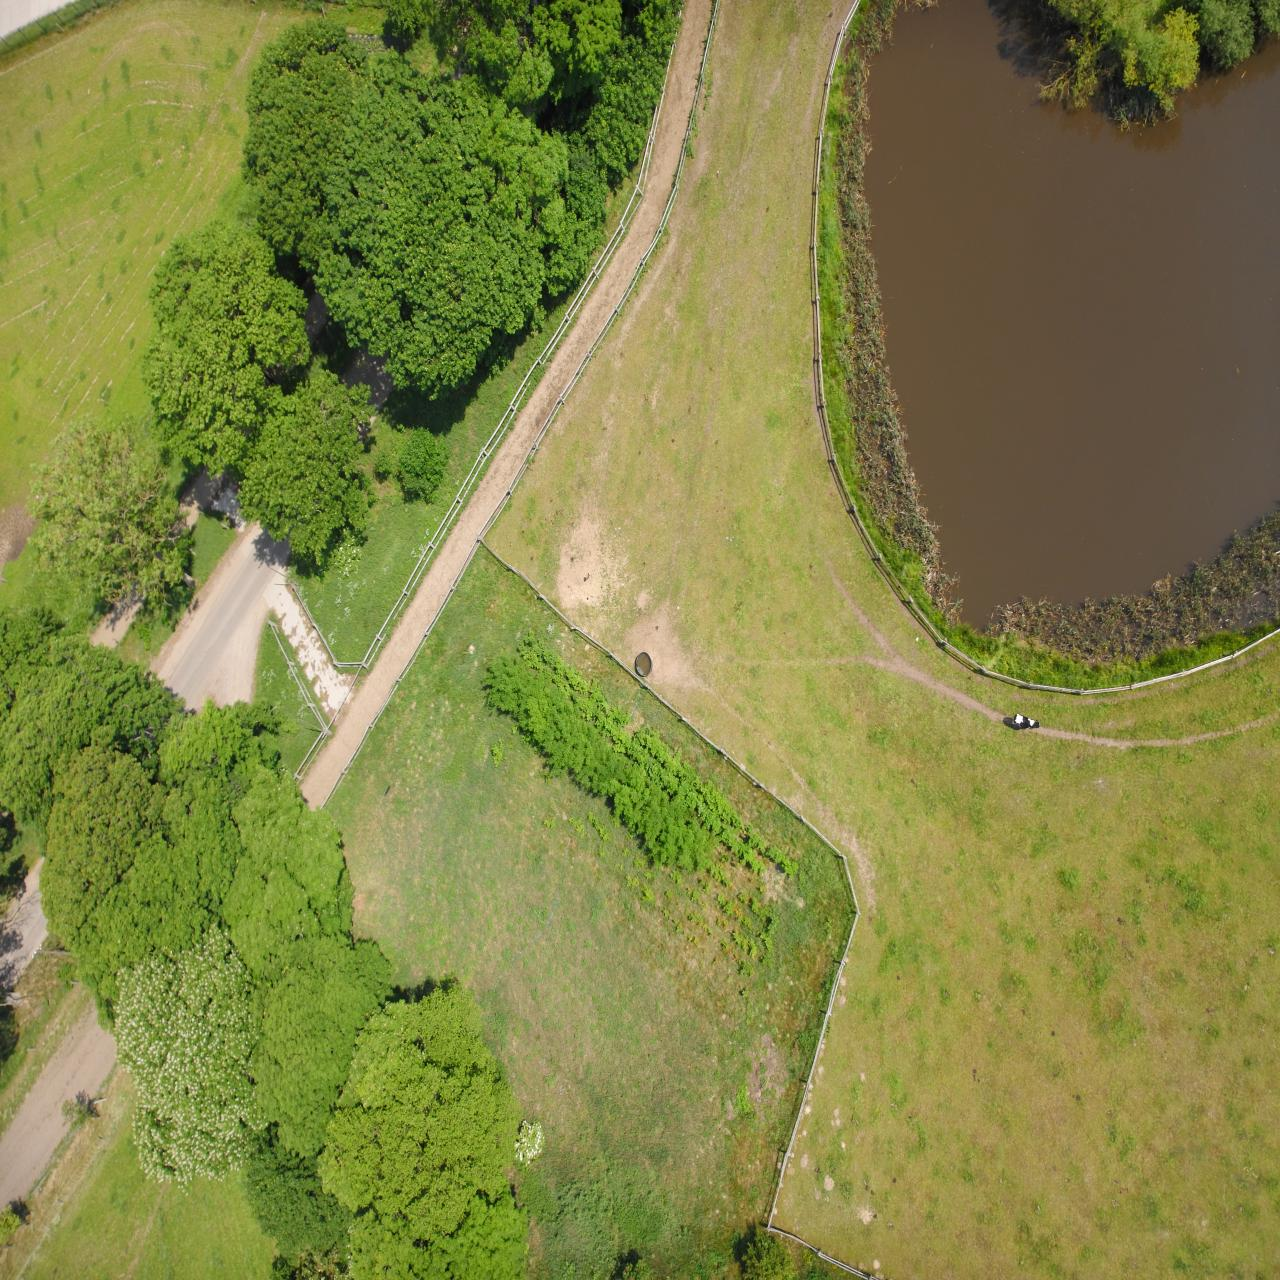cow: (239, 550, 267, 566)
